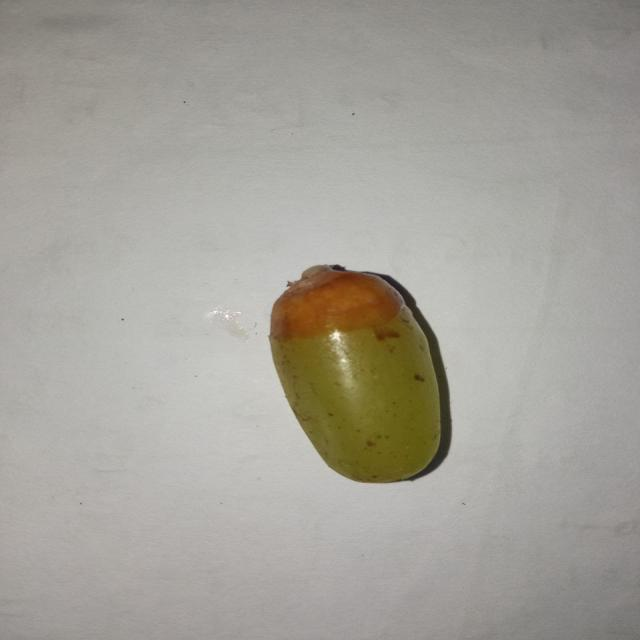rotten_grape: (269, 268, 436, 479)
